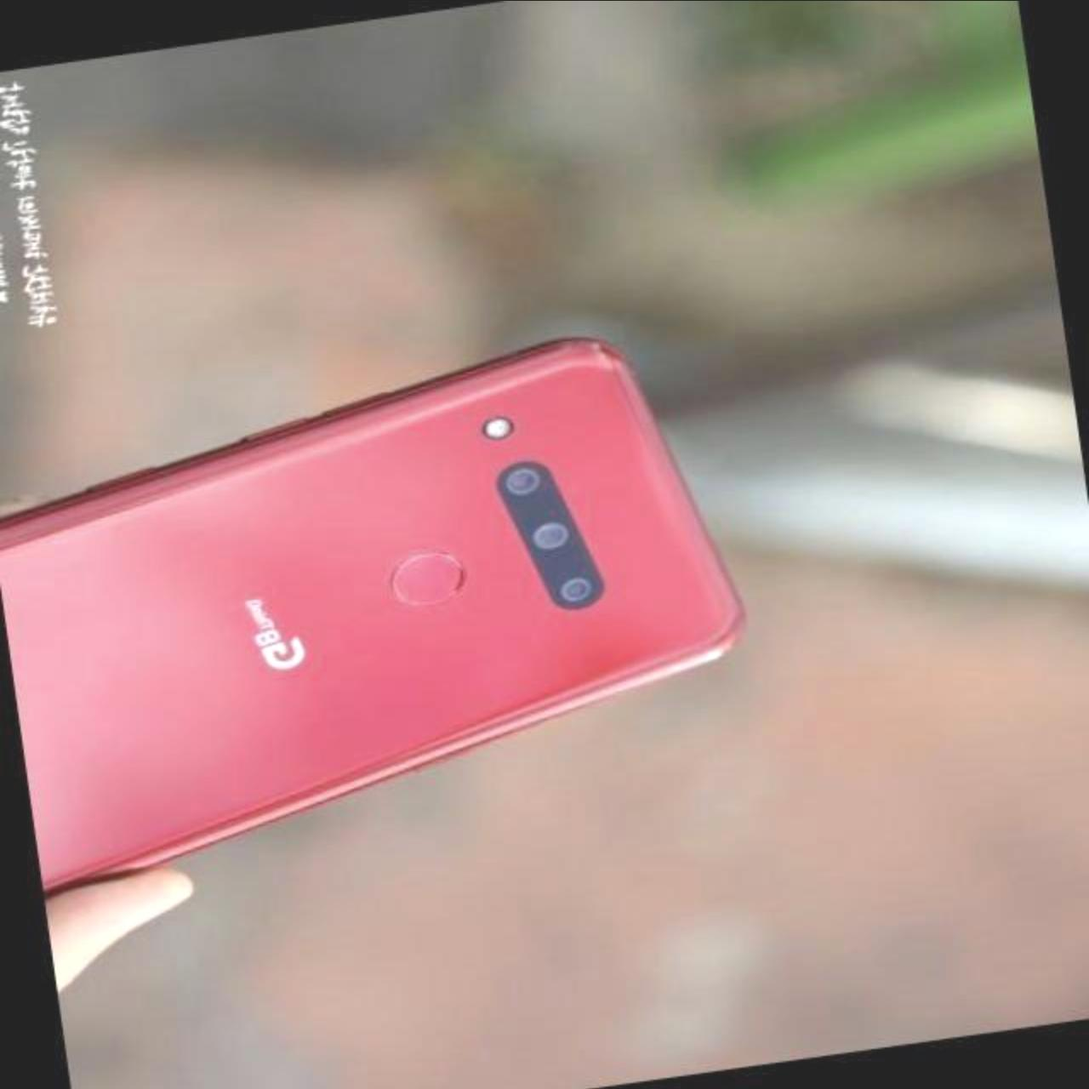phone: (0, 313, 773, 905)
